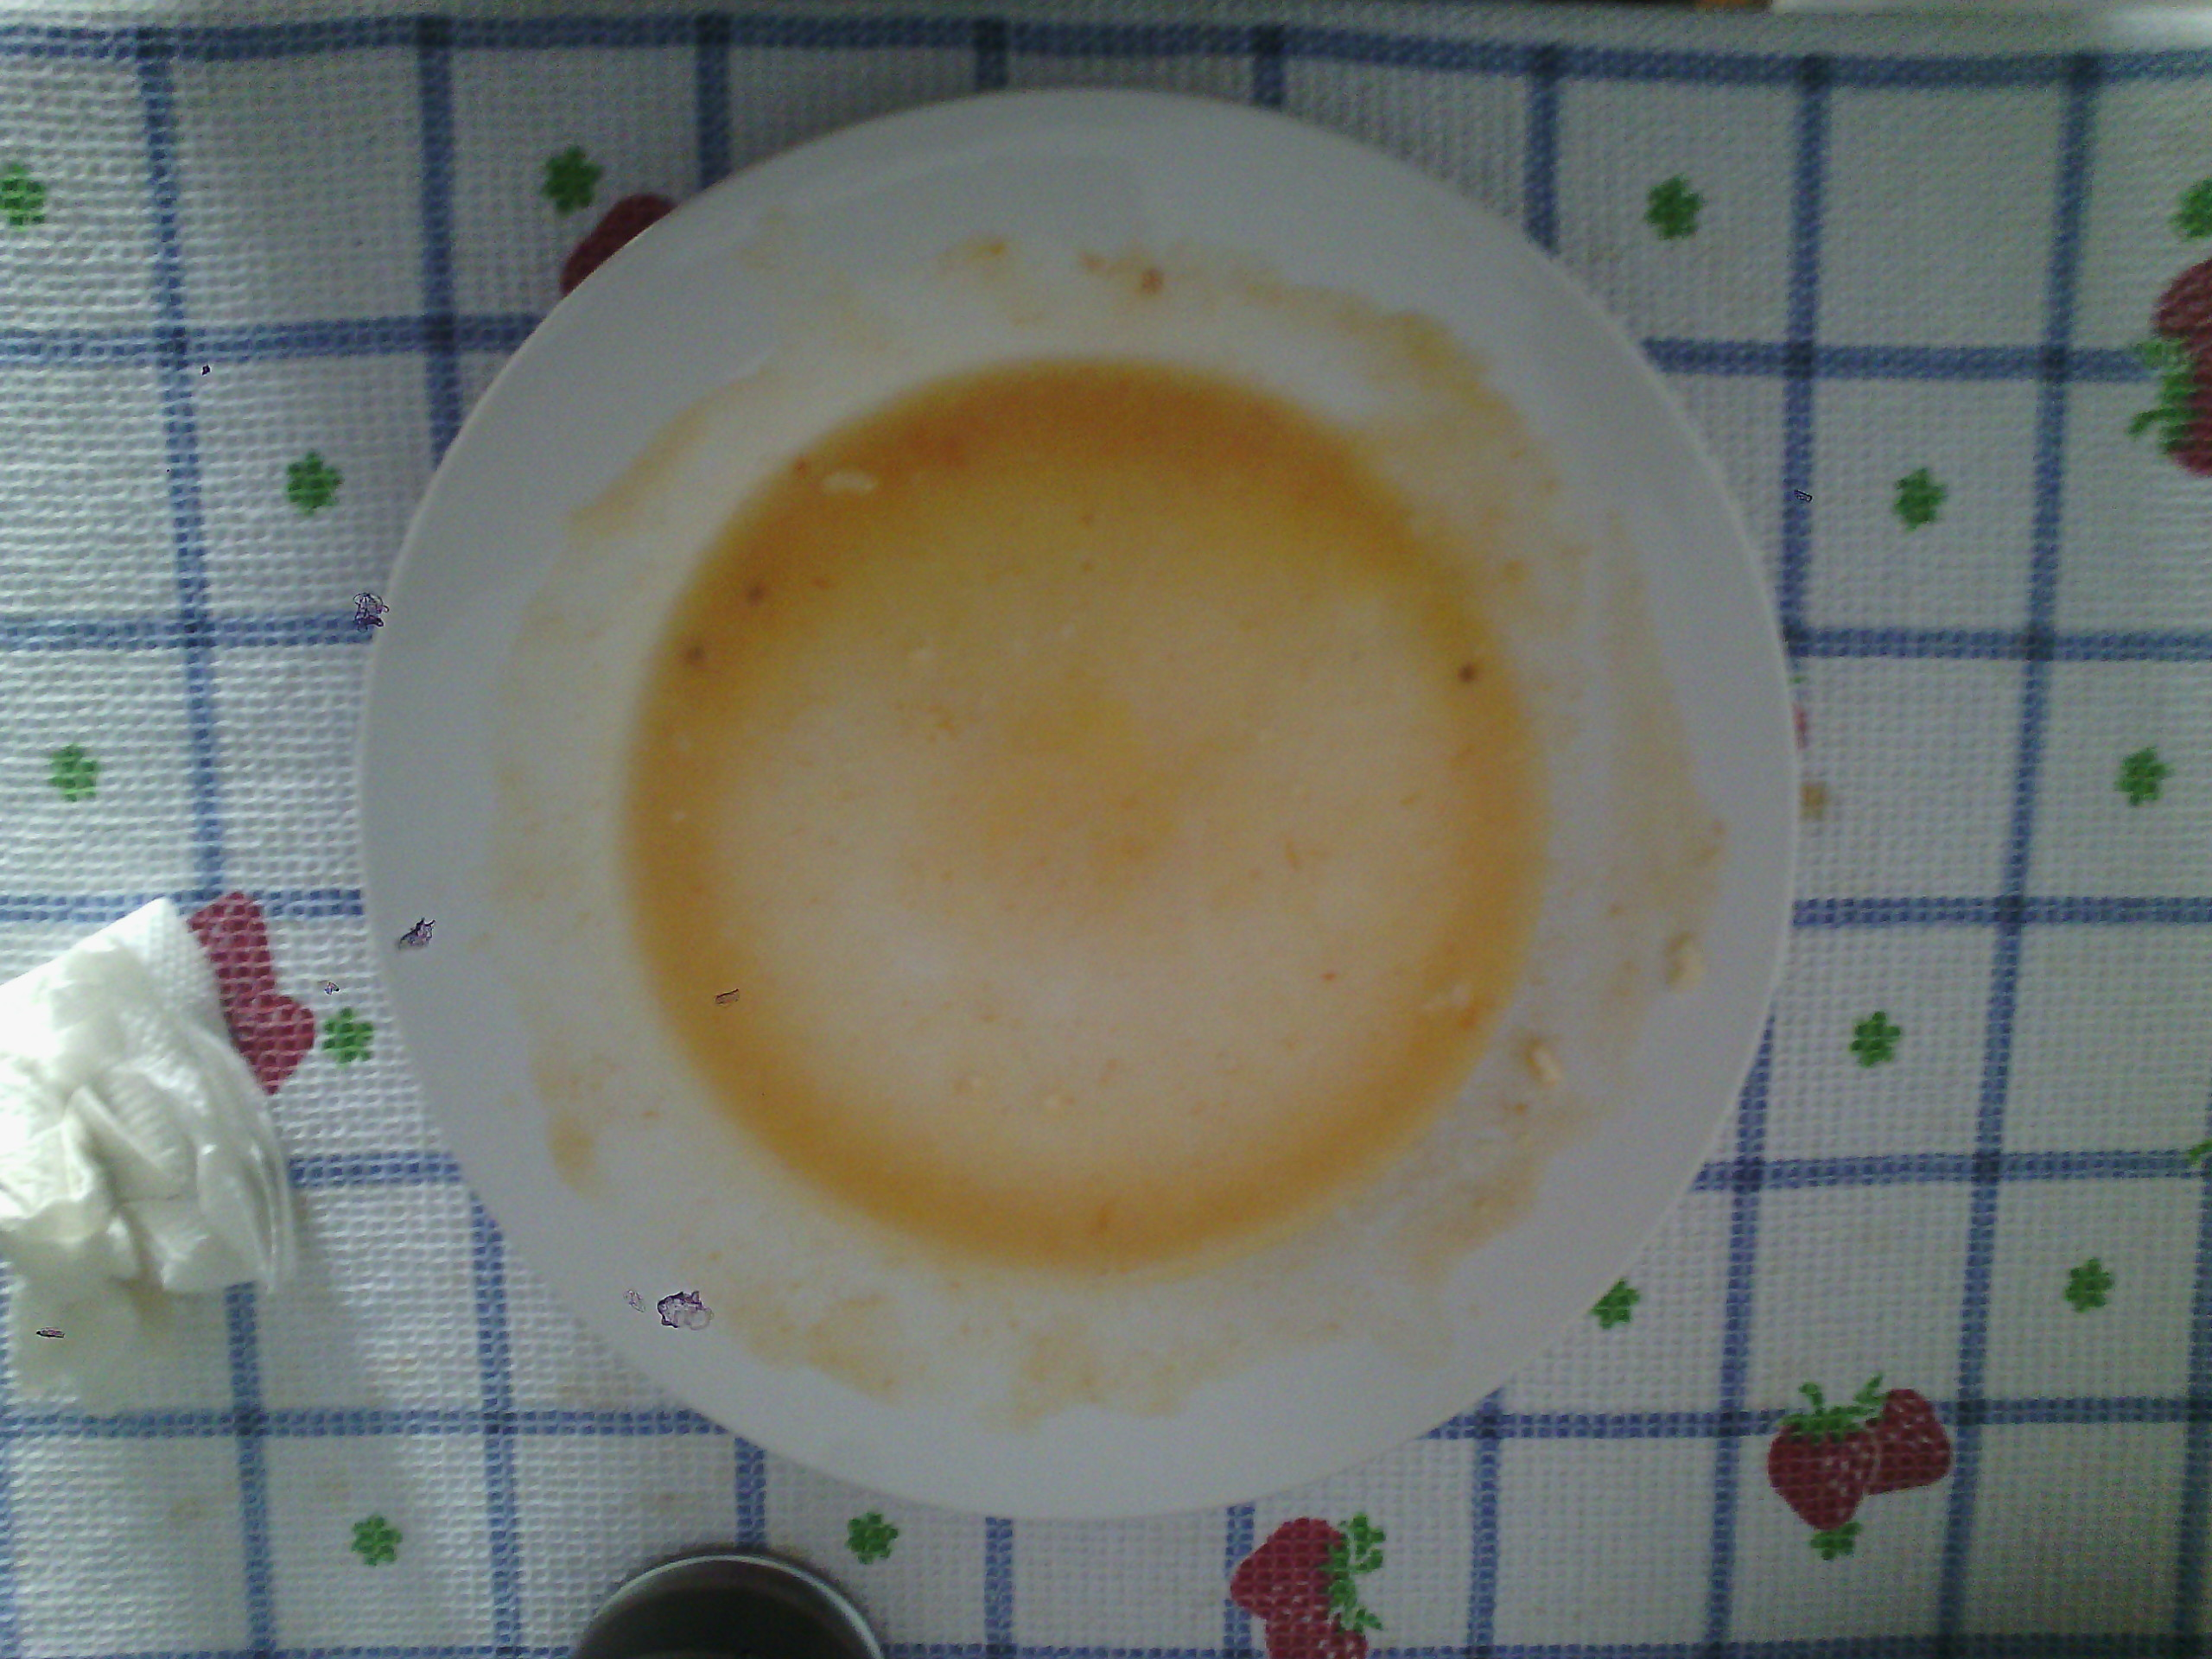0-20: (362, 91, 1792, 1521)
